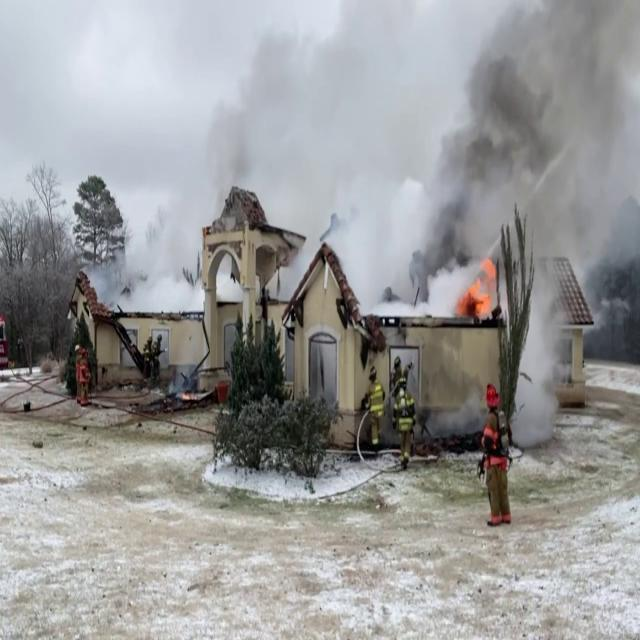Smoke: (418, 0, 640, 300)
